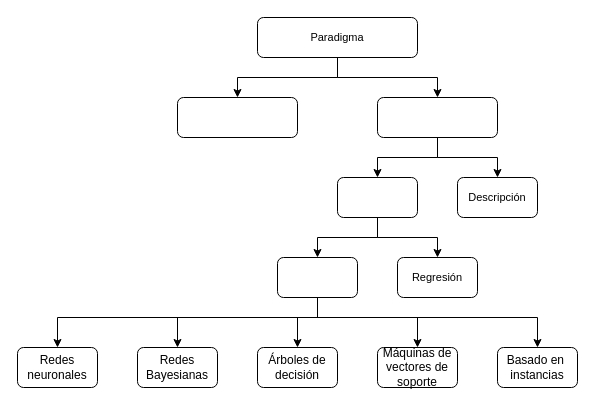
Some shapes in this 595 by 406 pixel diagram are drawn without their labels. The box of each missing label's shape, as (x1, y1, x2, y2) in pixels:
Clasificación: (276, 256, 358, 298)
Descubrimiento: (376, 96, 498, 138)
Predicción: (336, 176, 418, 218)
Verificación: (176, 96, 298, 138)
